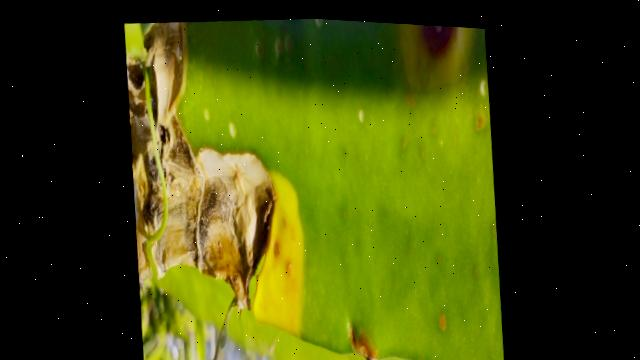stemcanker: (458, 97, 494, 156), (419, 299, 464, 345)
